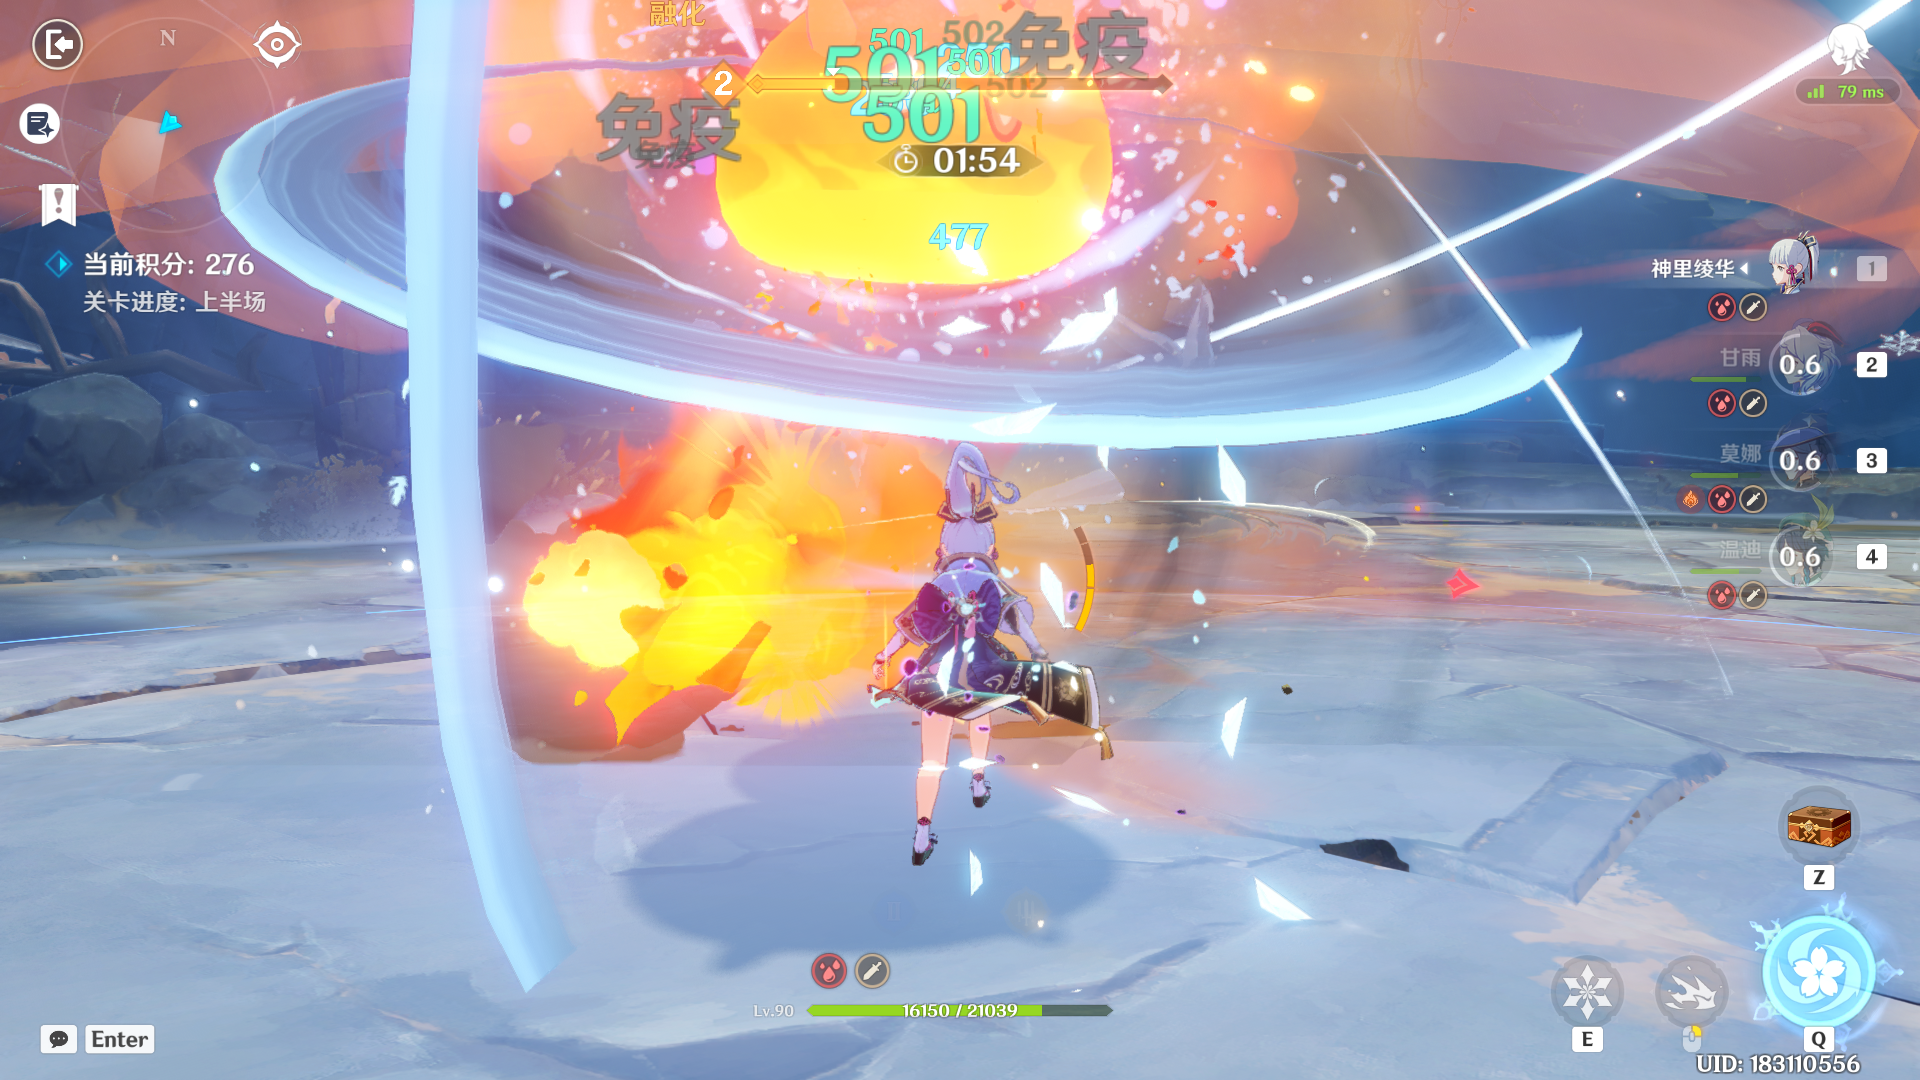character: (825, 425, 1126, 882)
slime: (694, 1, 1154, 313)
